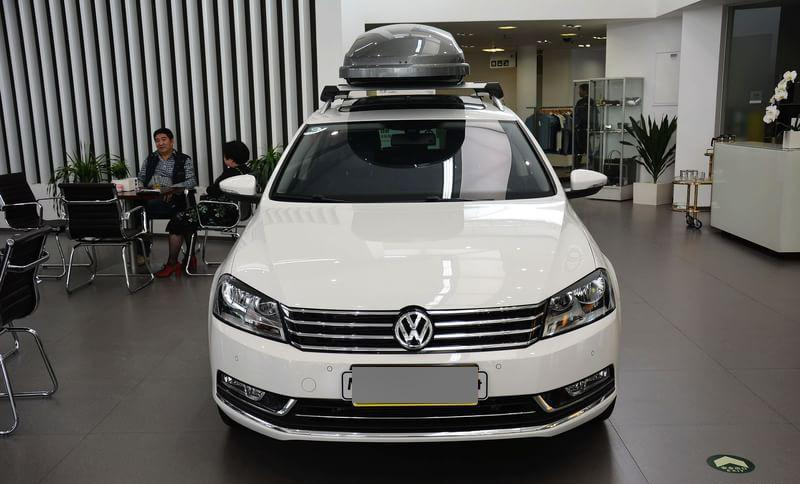Wagon: (207, 22, 623, 445)
